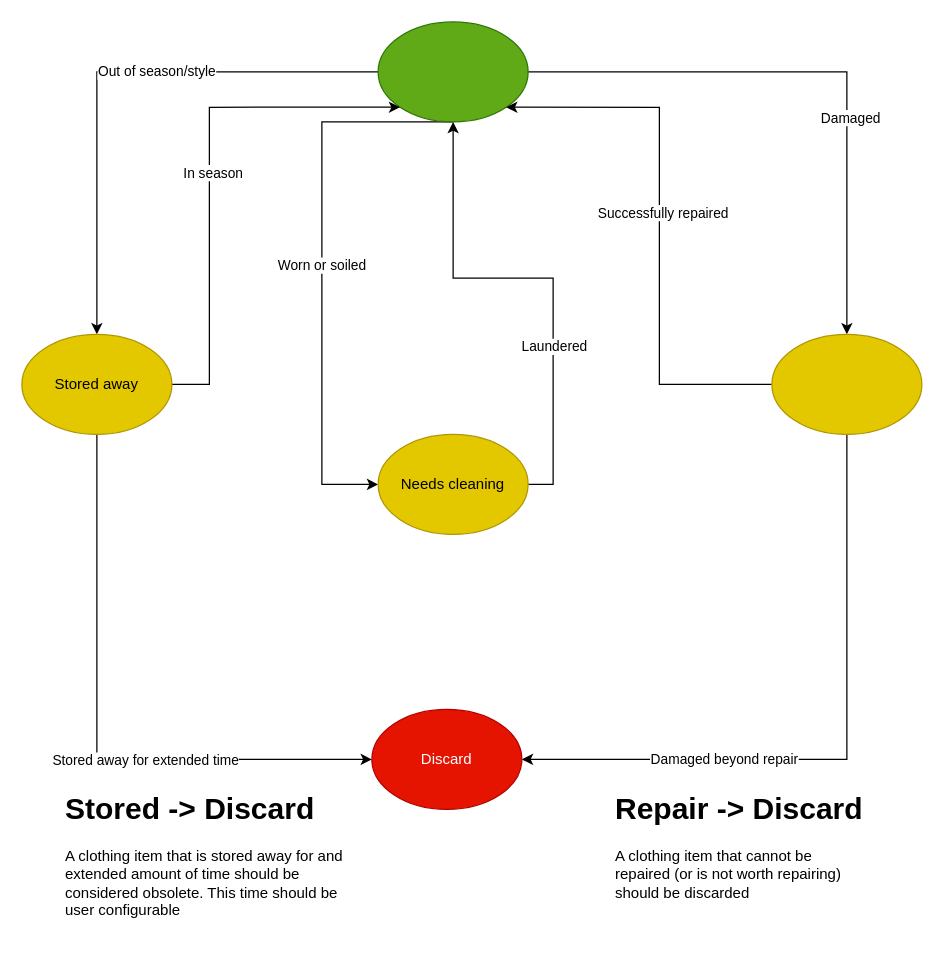
Image size: 944x956. Some labels were removed from this diagram. The shapes that lost their labels are listed below. From the top down, each one's centre as x and y in pixels, then its label:
At (452,71): "Ready".
At (846,383): "Needs repair".
